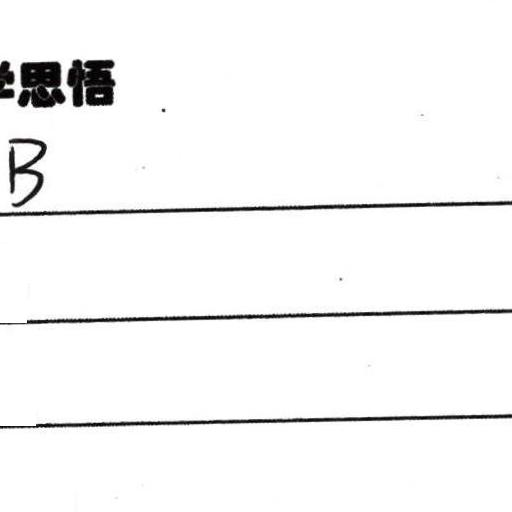ans: (3, 134, 48, 209)
